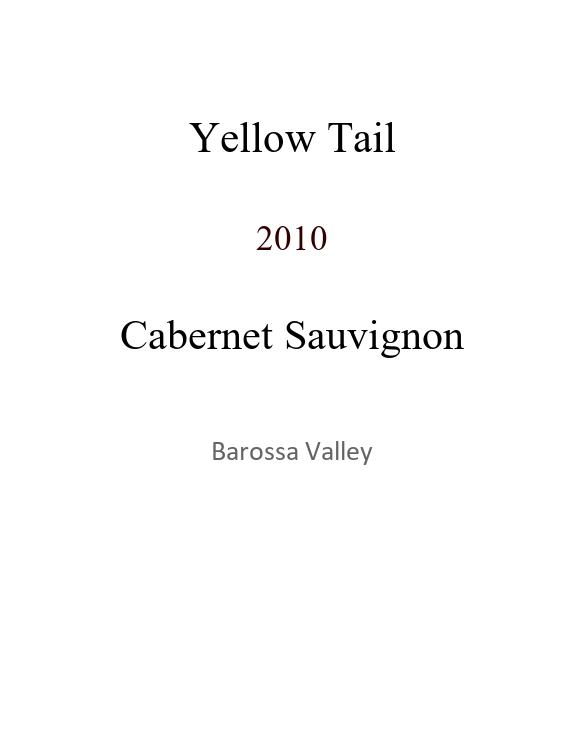brand: (189, 113, 396, 143)
region: (211, 439, 373, 463)
variety: (120, 311, 464, 349)
vintage: (256, 218, 328, 242)
